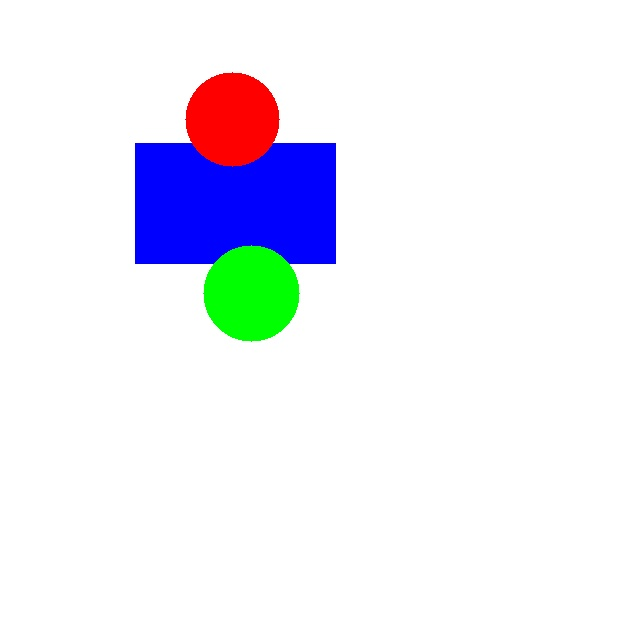cartao: (135, 143, 335, 263)
rosca_externa: (203, 245, 299, 341)
rosca_interna: (185, 72, 279, 166)
